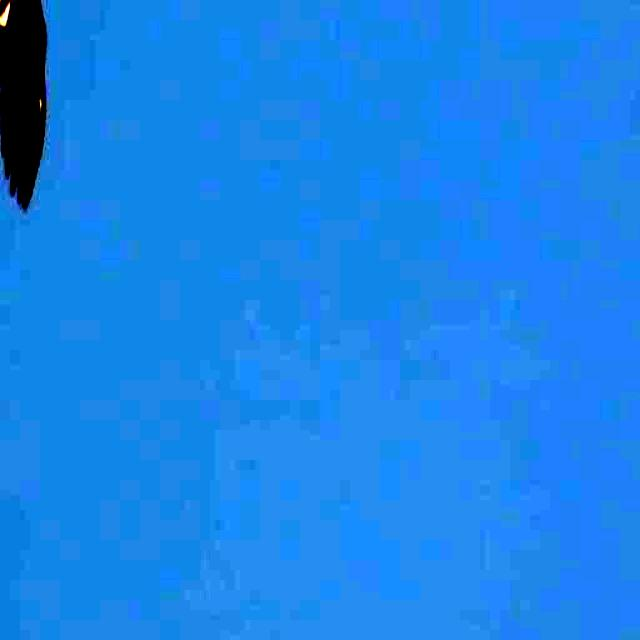airplane: (0, 0, 75, 199)
